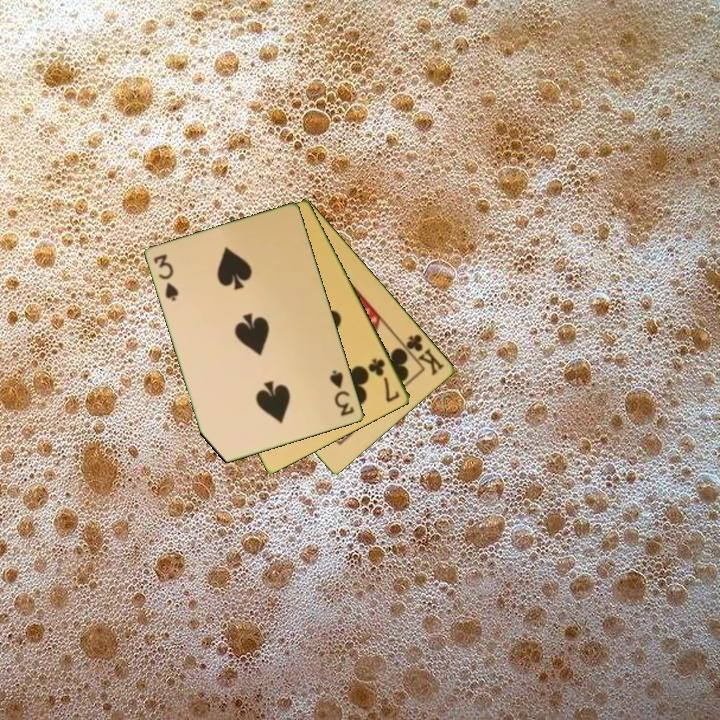3s: (150, 251, 182, 304), (326, 367, 357, 419)
7c: (365, 355, 403, 405)
Kc: (398, 331, 448, 379)
